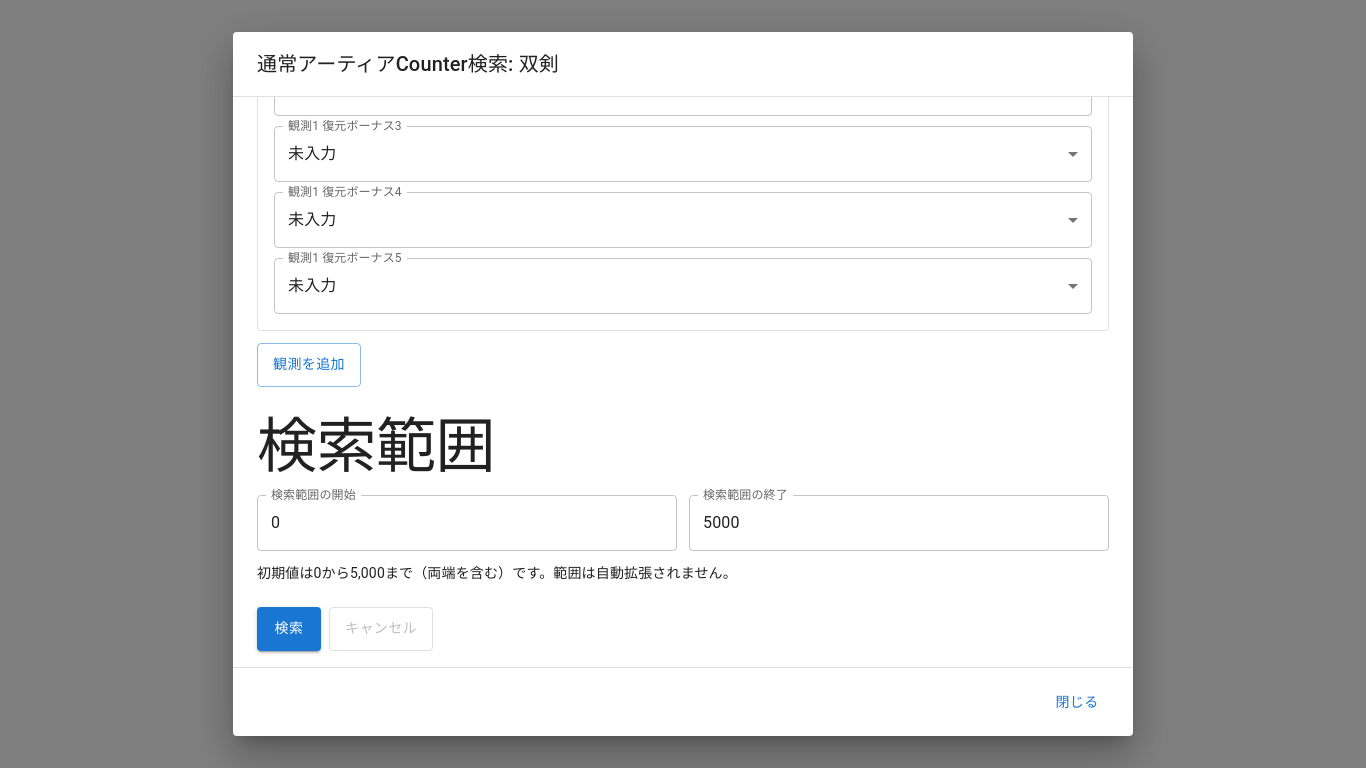
NormalCounterIdentificationDialog › refuses to search until every slot of every observation is filled
The width and height of the screenshot is (1366, 768).
(page scrolled)
Click the button "検索": (289, 629) [257,607,321,651]
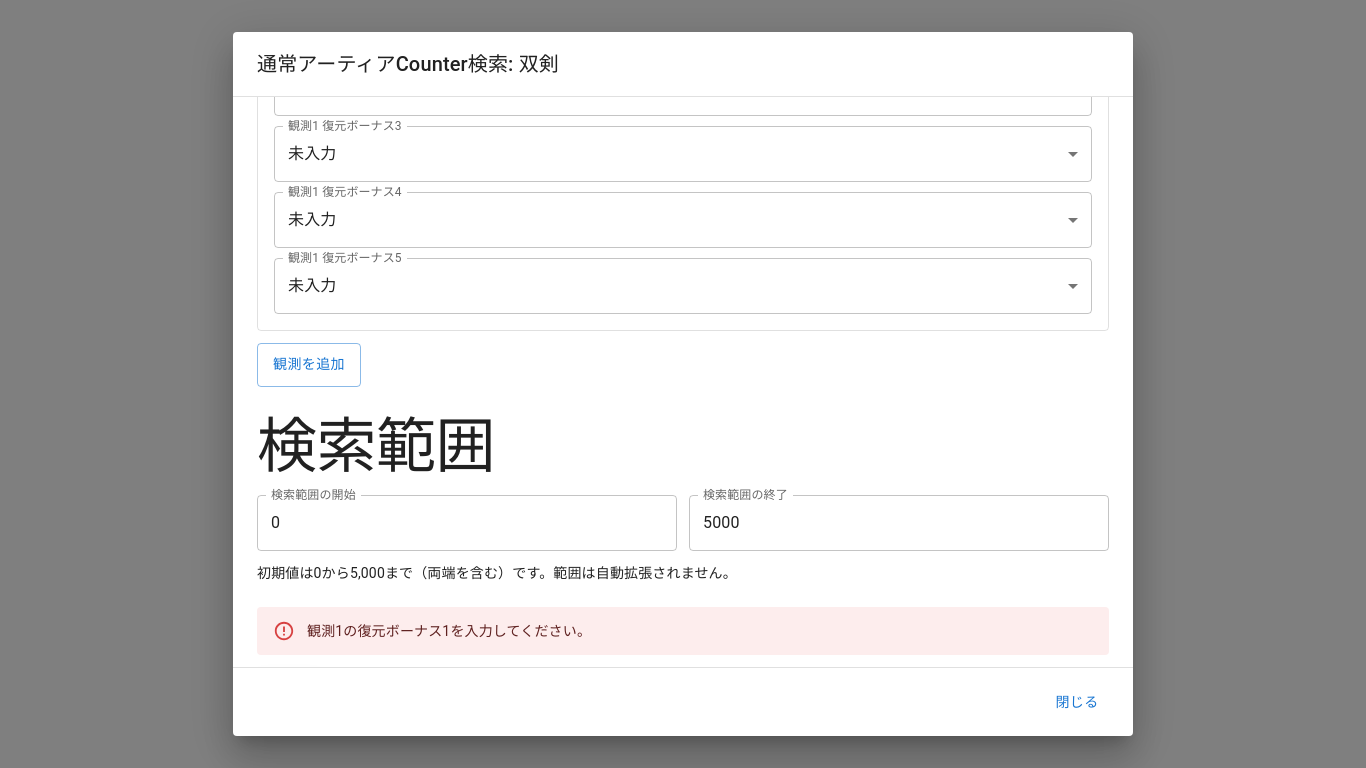
Expected: the text "観測1の復元ボーナス1を入力してください。" is shown, [307,623,591,639]
